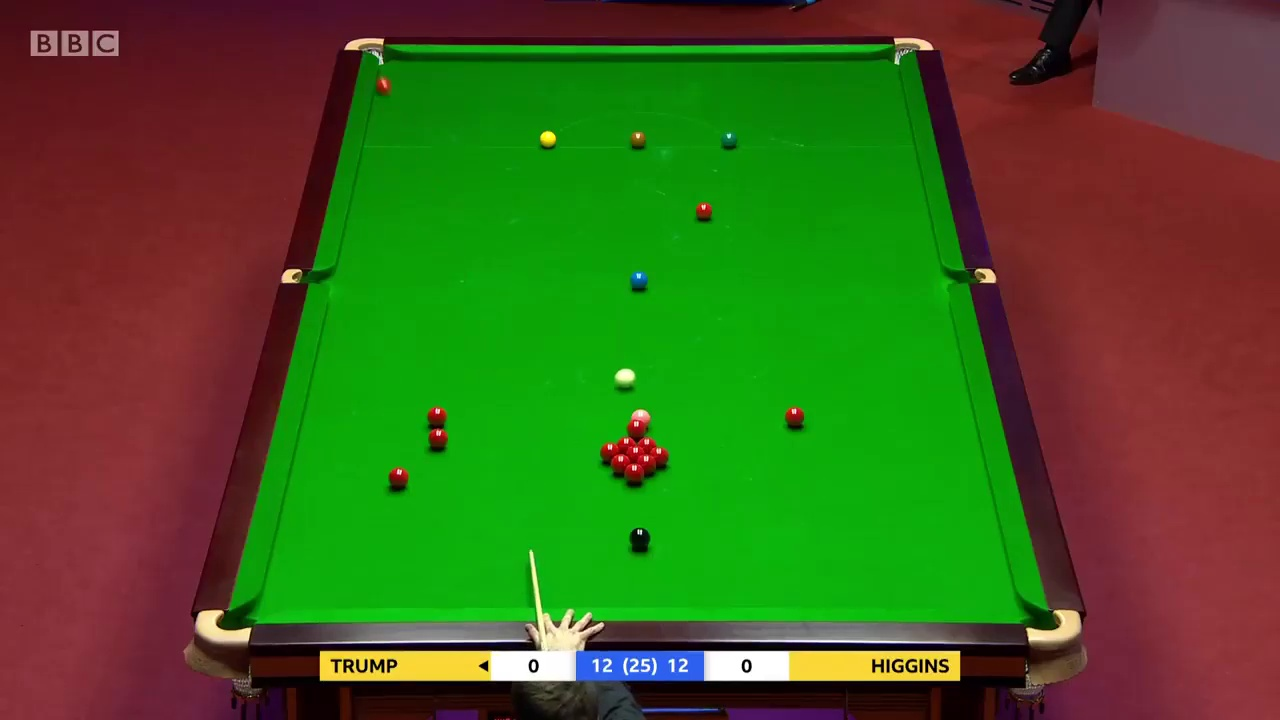ball: (627, 528, 654, 551), (387, 467, 412, 490), (783, 405, 806, 425), (427, 427, 448, 448), (539, 129, 561, 149), (694, 201, 714, 221), (427, 405, 448, 424), (719, 130, 738, 150), (626, 271, 646, 289), (627, 132, 649, 148)
